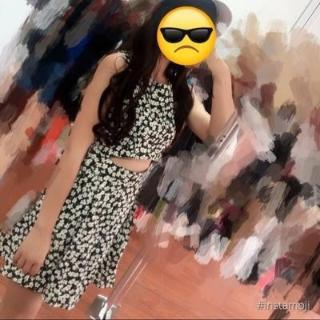vest: (0, 49, 188, 310)
